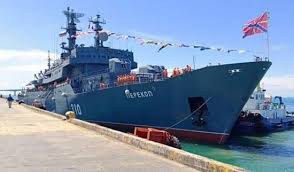tau_muctieu: (8, 19, 266, 147)
